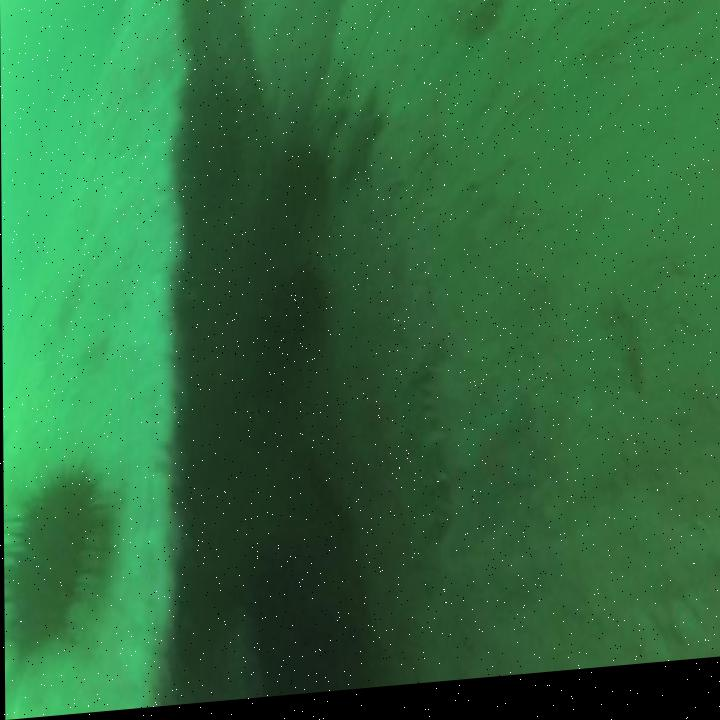echinus: (9, 476, 91, 645), (270, 619, 359, 700), (260, 153, 324, 240), (252, 546, 306, 630), (272, 276, 324, 356)
holothurian: (421, 371, 465, 538)
starfish: (459, 409, 533, 521), (339, 94, 385, 190)
